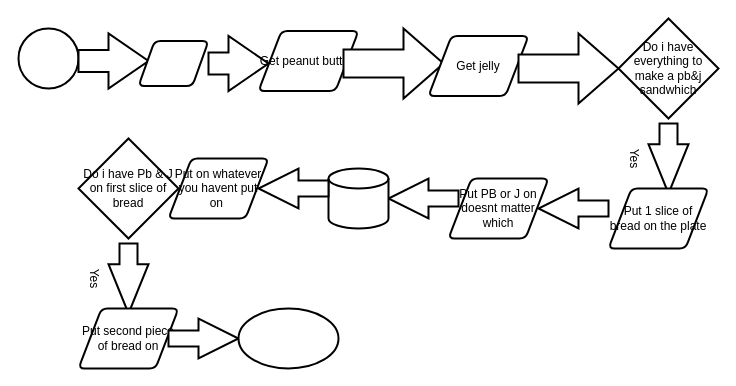
Some shapes in this 736 by 386 pixel diagram are drawn without their labels. Each missing label, with the centre of its shape:
End eat sandwhich: point 288,338
Get bread: point 173,63
What you put on: point 358,198
